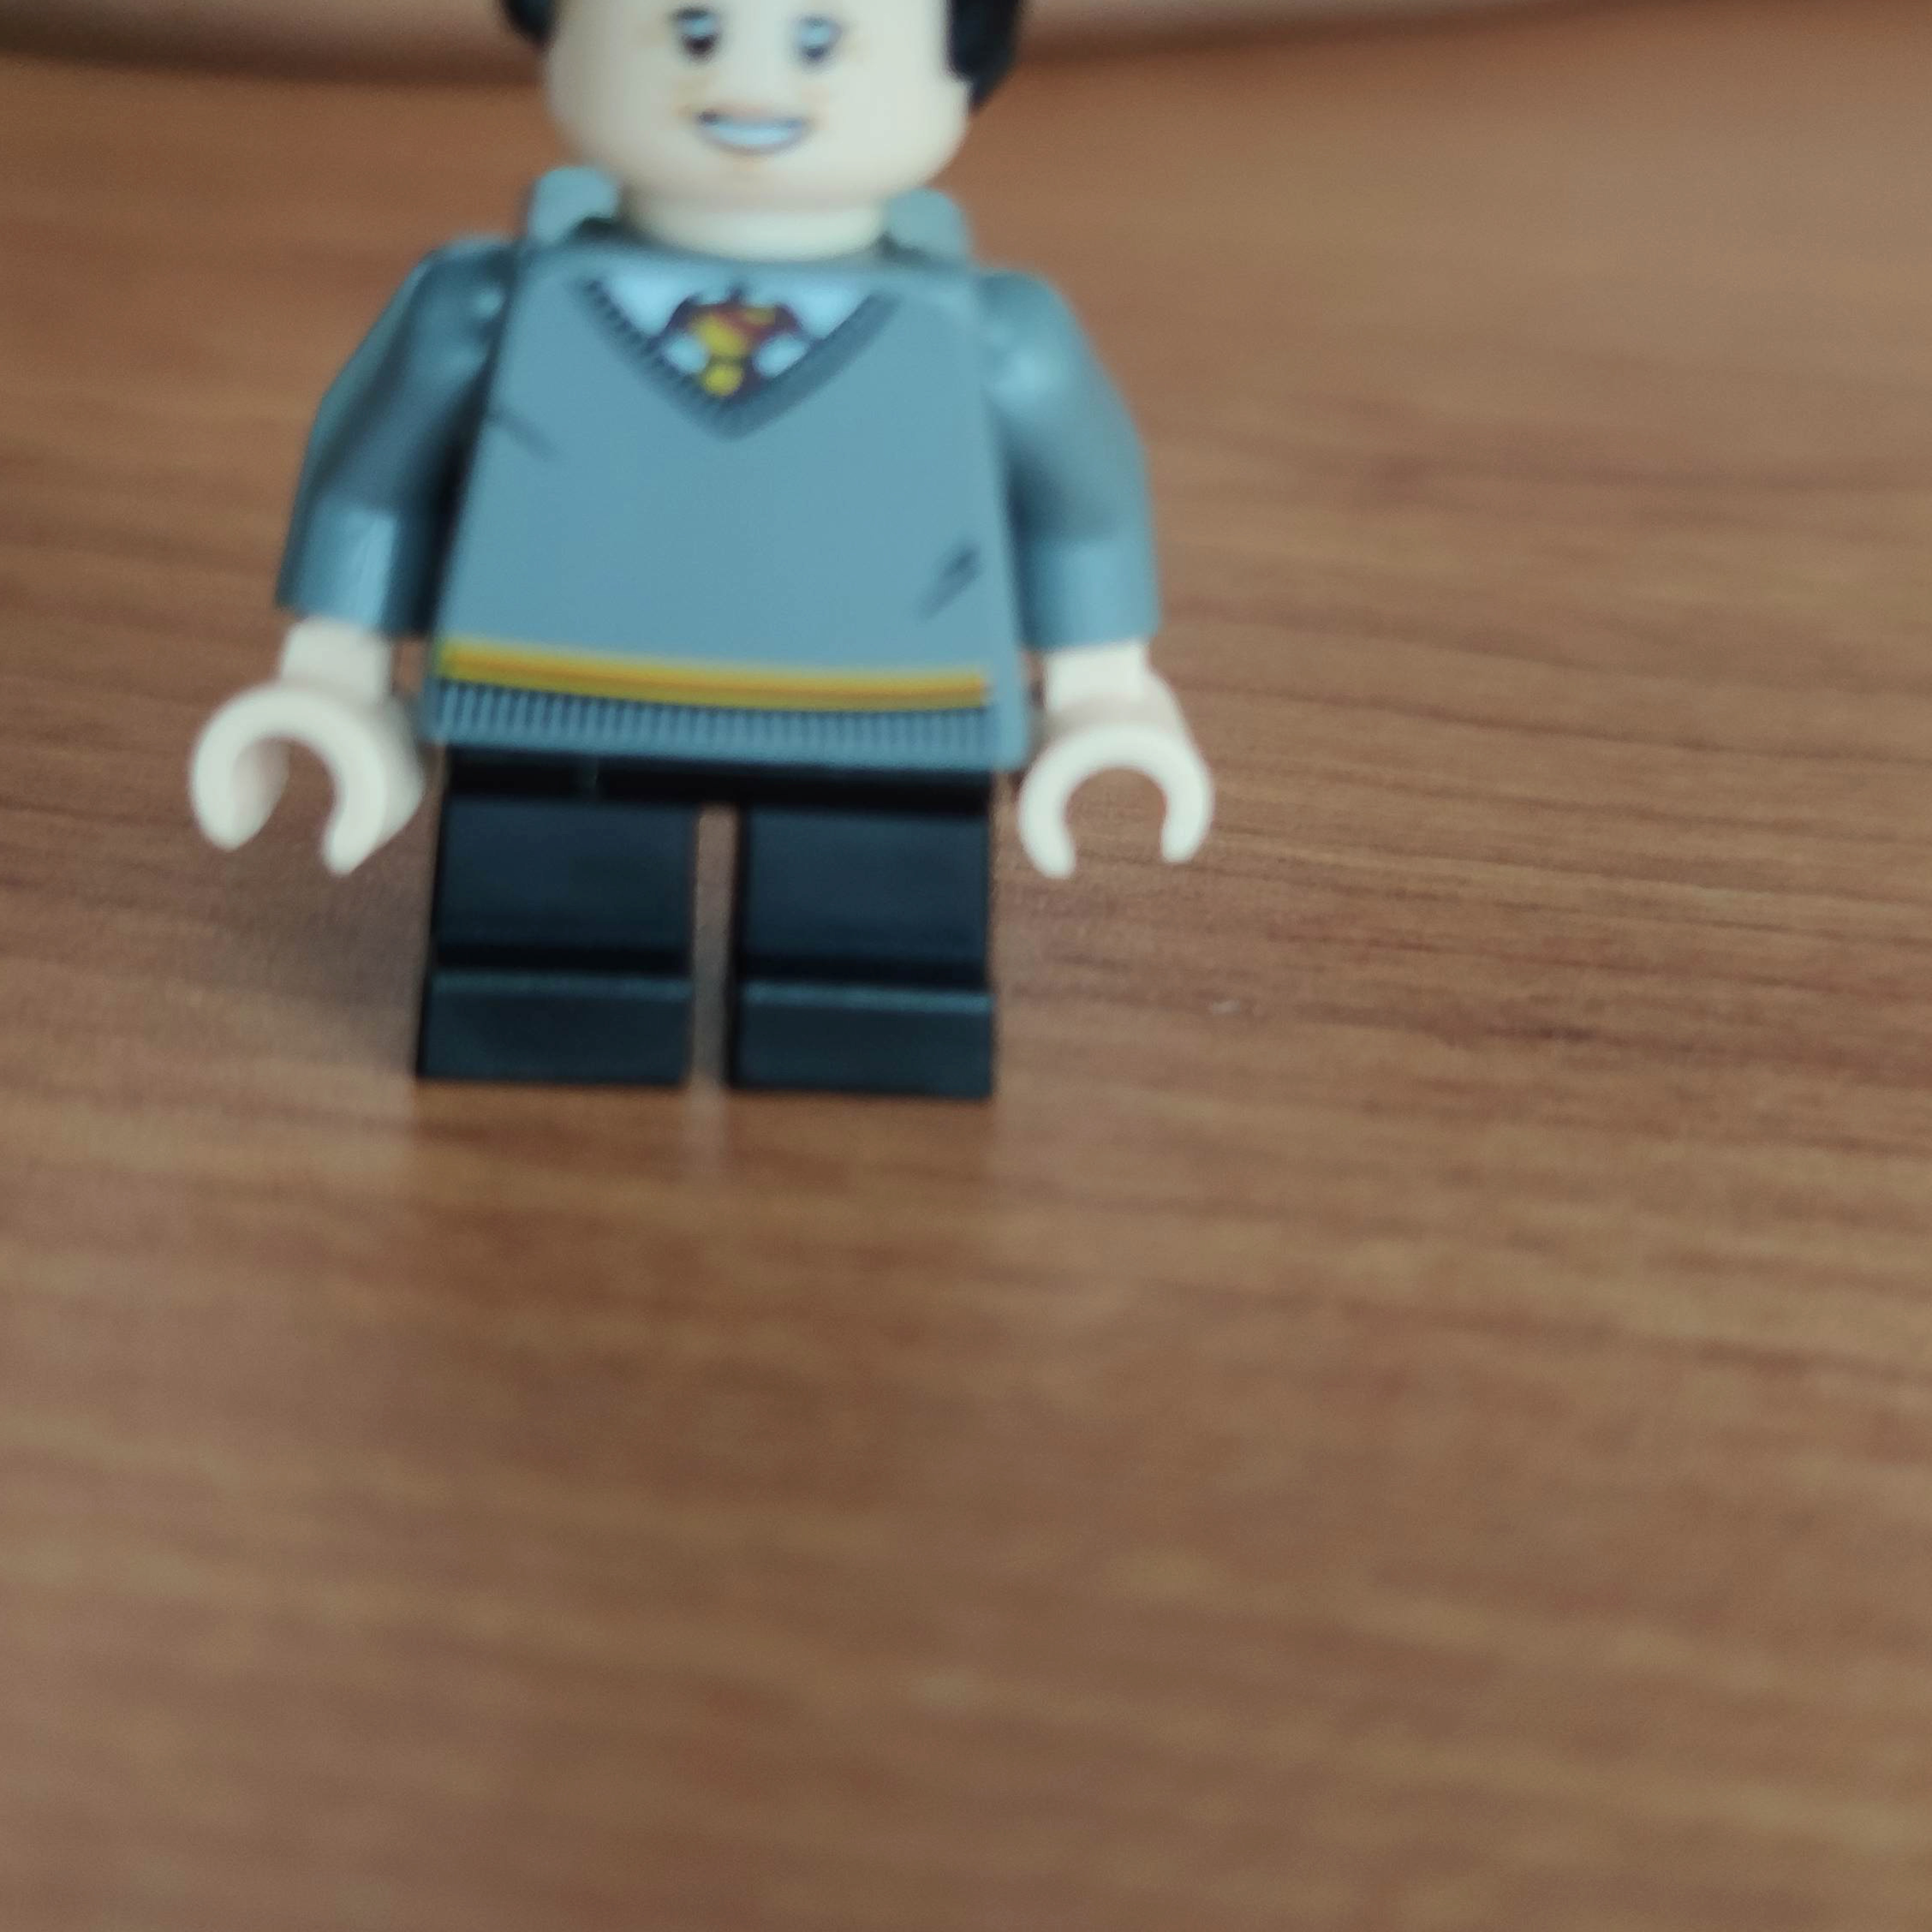lego: (189, 0, 1215, 1095)
